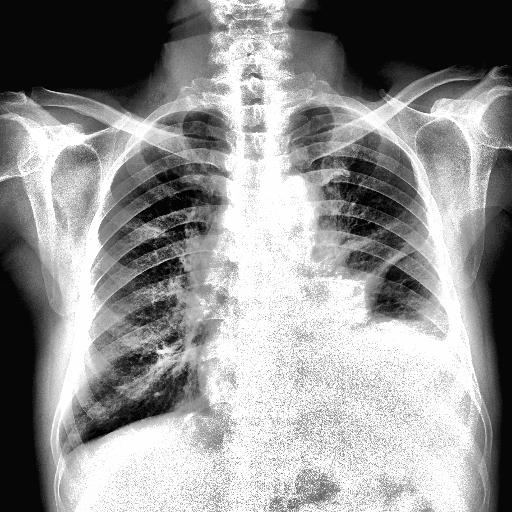0- Aortic enlargement: (260, 172, 320, 254)
10- Pleural effusion: (342, 278, 470, 428), (338, 318, 475, 405), (59, 448, 70, 462)
11- Pleural thickening: (342, 300, 478, 434), (59, 448, 70, 462)
13- Pulmonary fibrosis: (319, 214, 427, 325)
4- Consolidation: (316, 275, 397, 326)
7- Lung Opacity: (319, 214, 427, 325), (353, 238, 422, 300), (390, 279, 450, 332), (380, 312, 450, 338)
